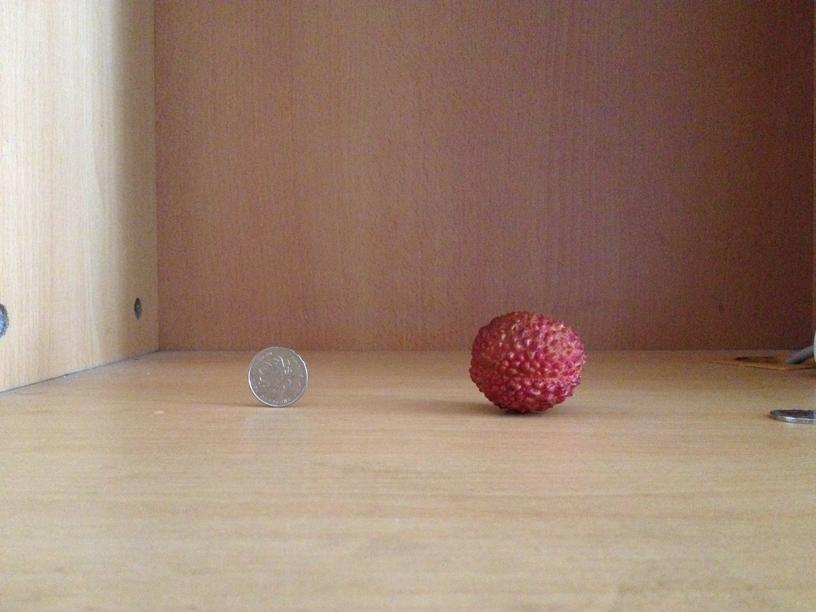coin: (246, 342, 306, 408)
litchi: (467, 312, 583, 413)
